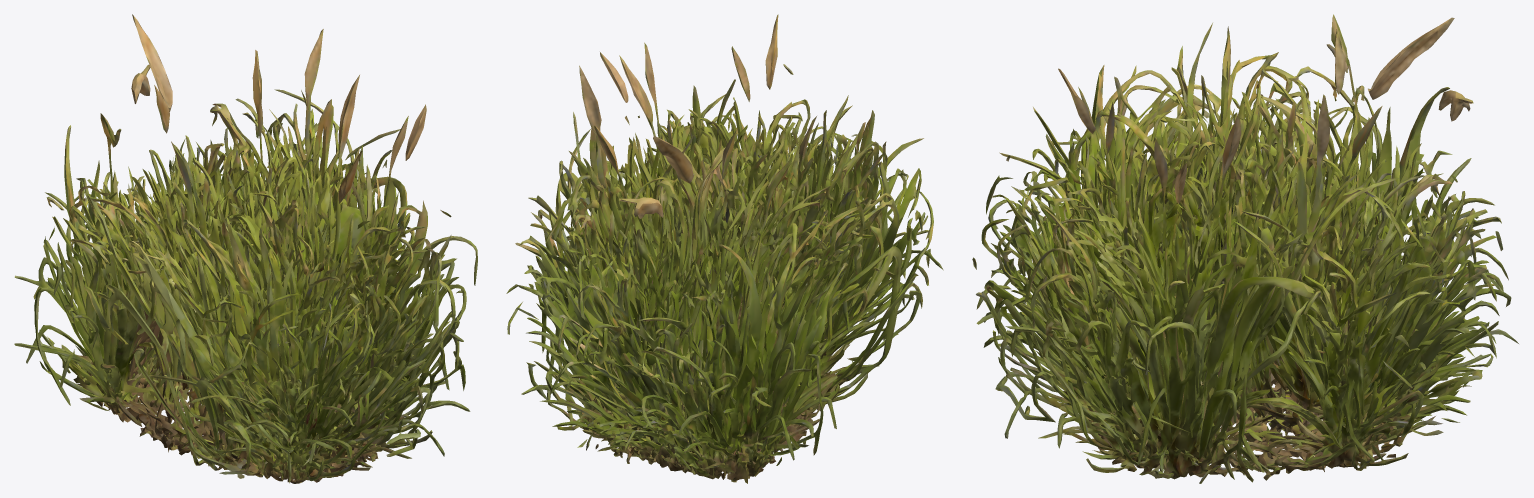
The model's file is Grass_Short.fbx.
The picture shows the model from 3 angles, left to right: view 1: azimuth 30°, elevation 25°; view 2: azimuth 150°, elevation 25°; view 3: azimuth 270°, elevation 25°; orthographic projection. The views are drawn at different scales.
Visible parts, largest first — view 1: geometry_0; view 2: geometry_0; view 3: geometry_0.
Boxes of the visible parts, left/top/right/bottom form: geometry_0: left=14, top=14, right=477, bottom=483; geometry_0: left=506, top=14, right=943, bottom=483; geometry_0: left=972, top=14, right=1518, bottom=483.
Bounding box in the file's own units: 59.96 × 58.84 × 73.1.
